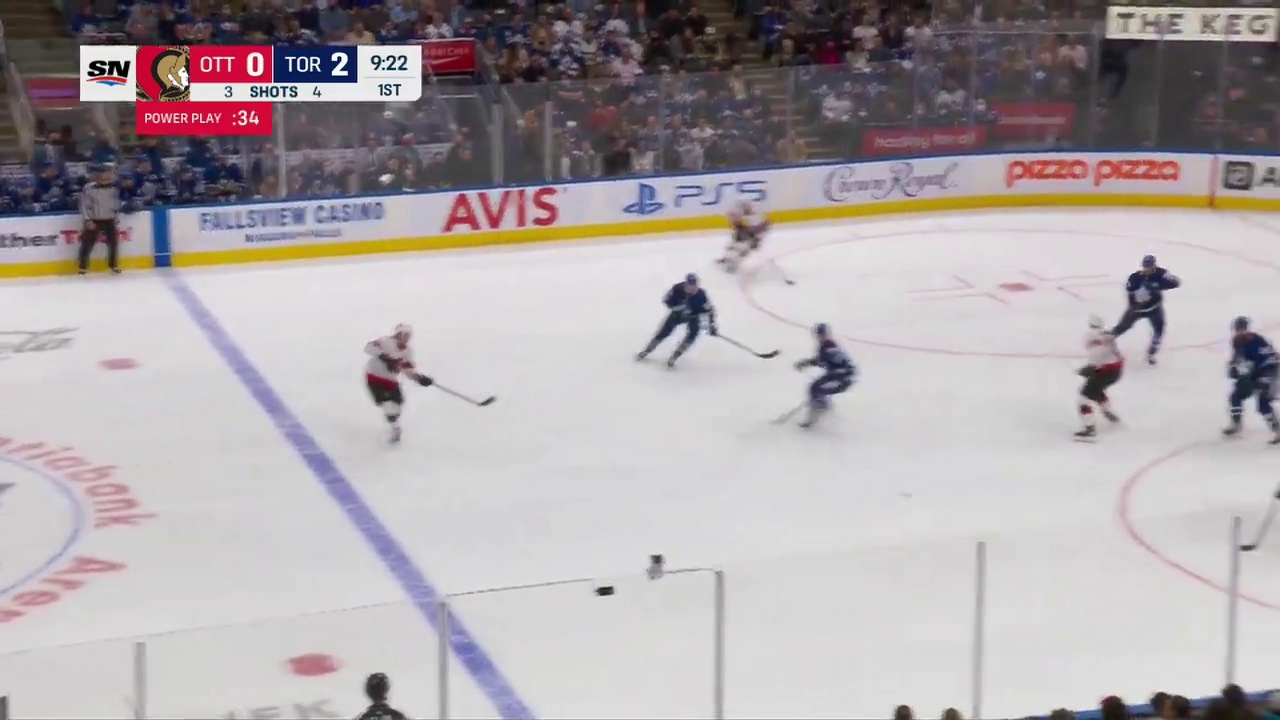hockeyplayer: (364, 322, 434, 448), (635, 273, 719, 370), (1112, 255, 1182, 367), (1222, 317, 1280, 445), (1073, 311, 1125, 442), (795, 323, 858, 431), (718, 200, 770, 273)
referee: (78, 169, 120, 276)
